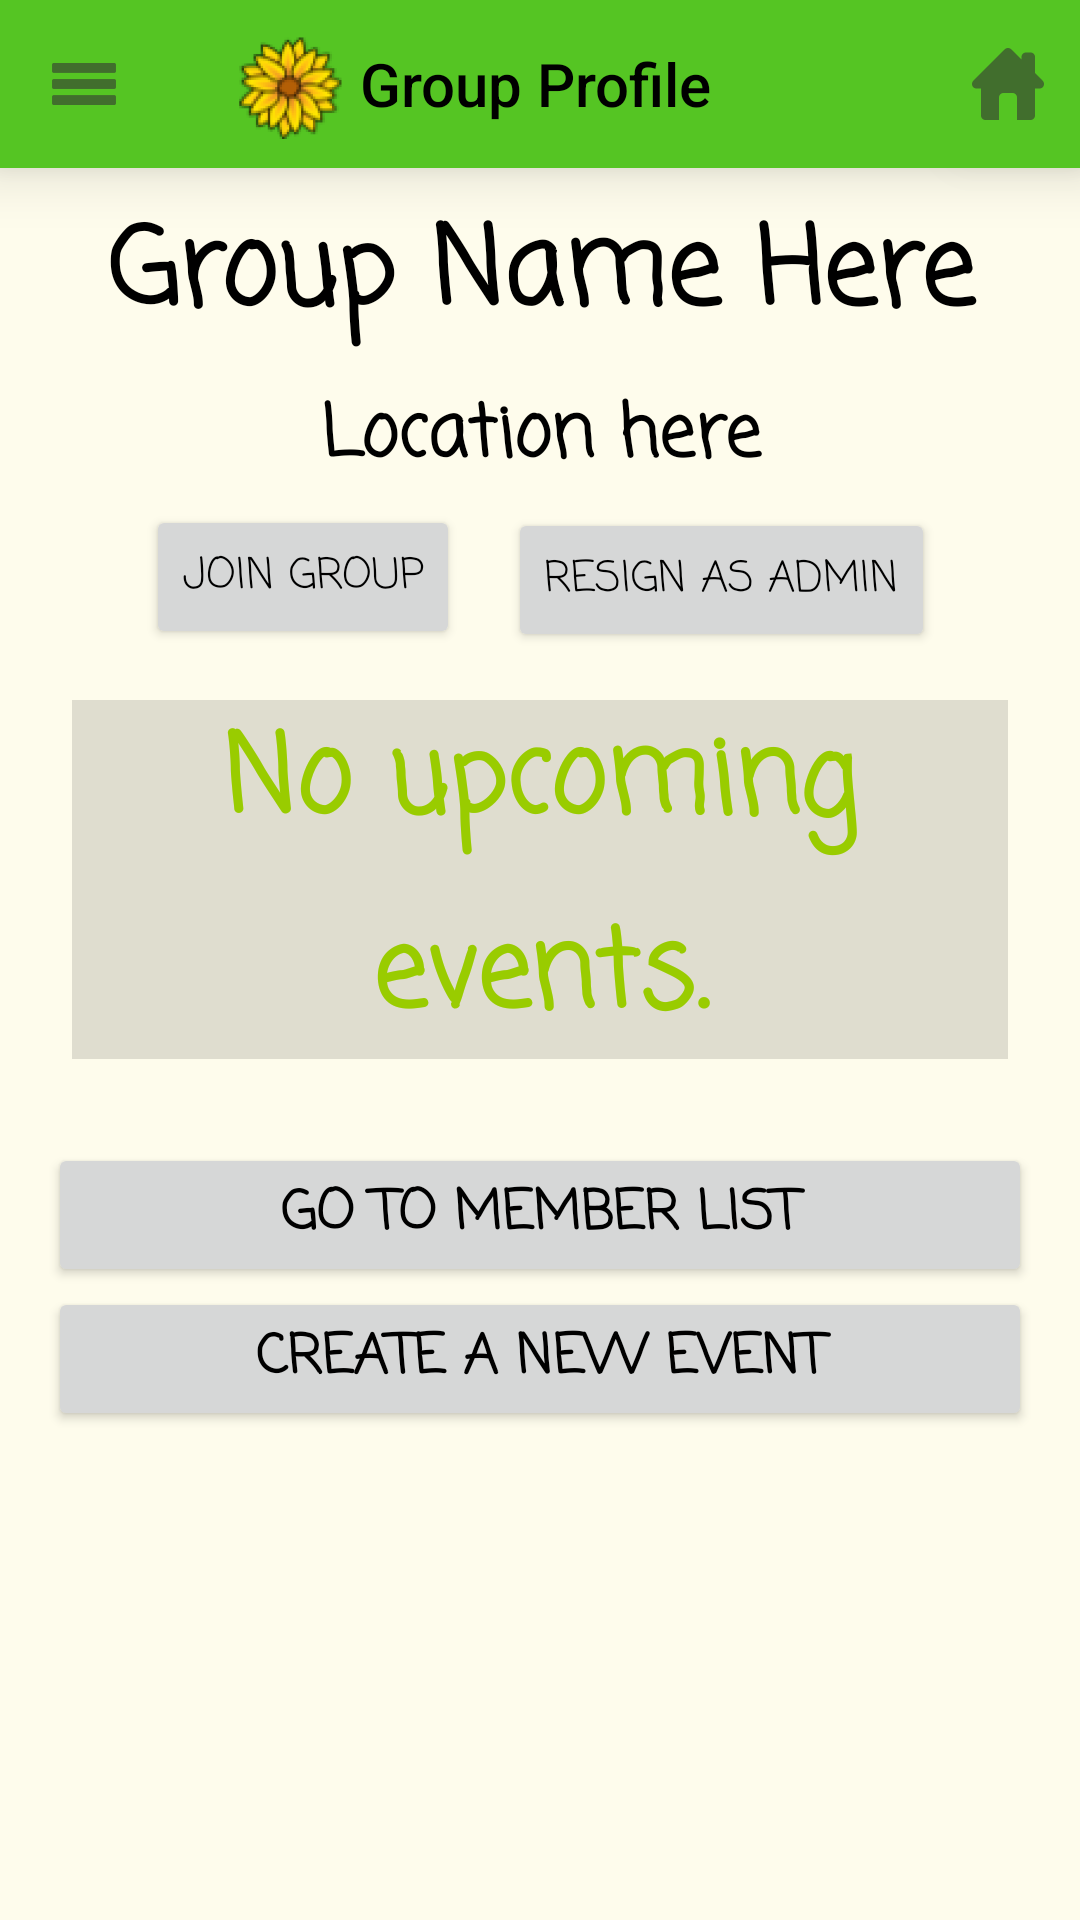

Named icons in this screenshot (1080px×1920px) and their centers, [x,y]:
home: [1008,84]
